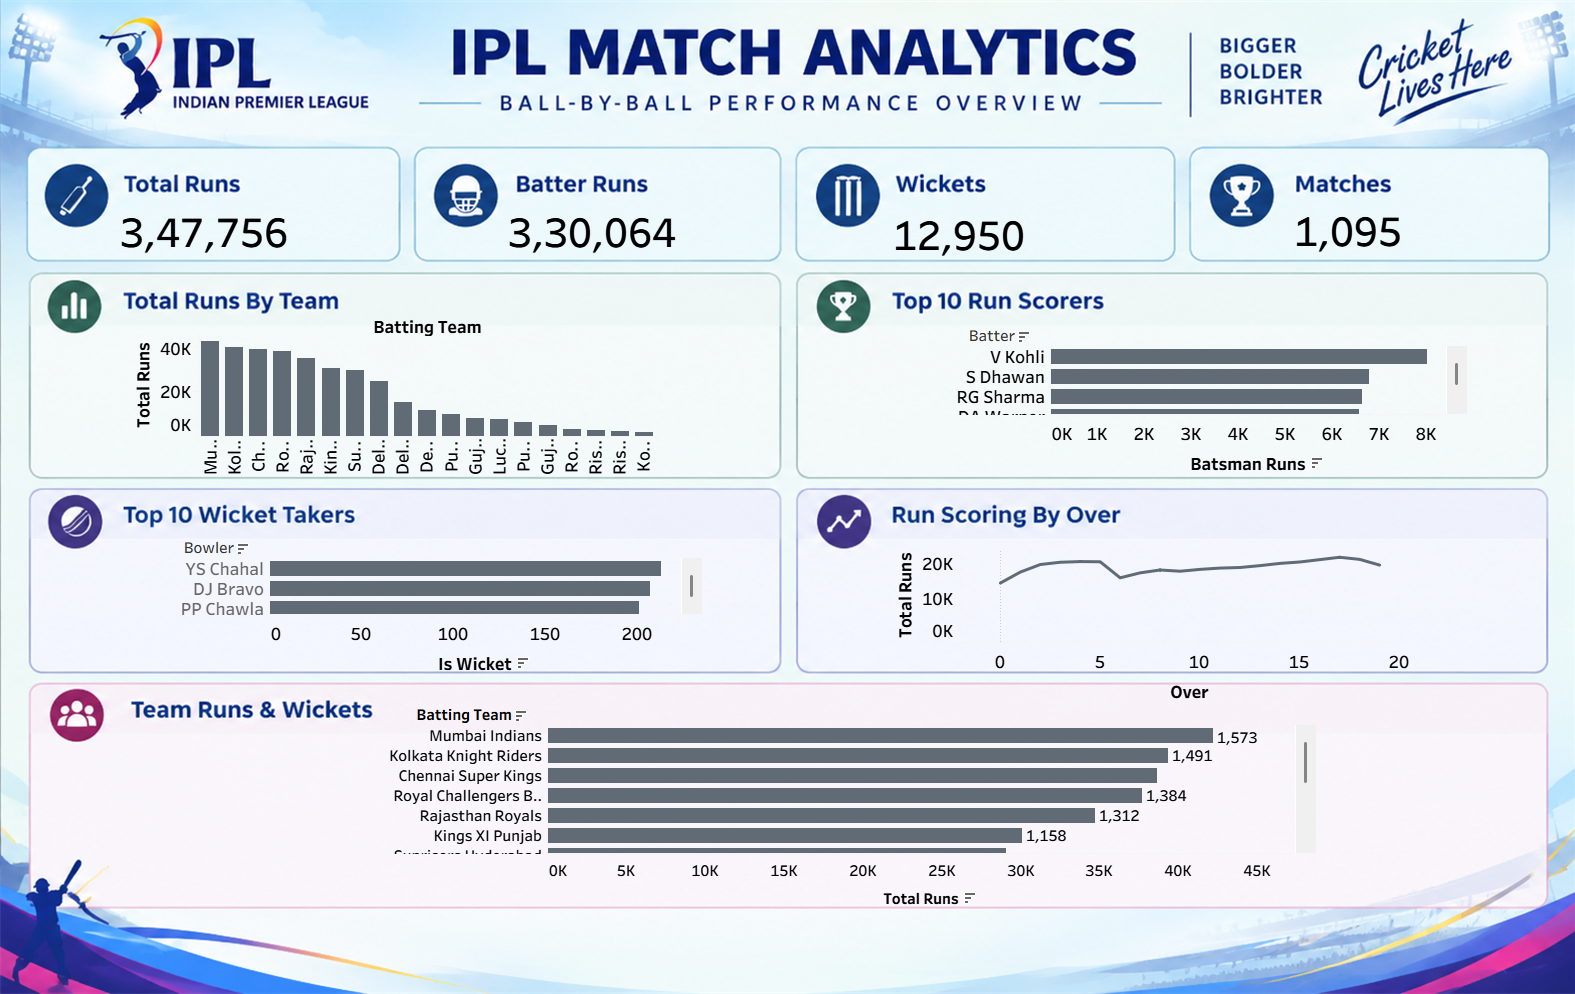

The dashboard page shown, as its layout file describes it:
{"tool":"tableau","page":{"name":"Dashboard 2","canvas":[1600,1200],"ordinal":0},"visuals":[{"type":"image","param":"Image/ChatGPT Image Sep 22, 2026, 08_06_36 PM.png","box":[8,8,1584,1184]},{"type":"worksheet","title":"matches cntd","mark":"Automatic","box":[1298,200,164,80]},{"type":"worksheet","title":"total runs","mark":"Automatic","box":[124,201,260,77]},{"type":"worksheet","title":"bat runs","mark":"Automatic","box":[512,201,229,78]},{"type":"worksheet","title":"wicks","mark":"Automatic","box":[901,204,202,70]},{"type":"worksheet","title":"runs by team","mark":"Automatic","rows":["total_runs"],"cols":["batting_team"],"box":[136,313,533,176]},{"type":"worksheet","title":"top10 run scorer","mark":"Bar","rows":["batter"],"cols":["batsman_runs"],"box":[942,323,537,171]},{"type":"worksheet","title":"top 10 wicket taker","mark":"Bar","rows":["bowler"],"cols":["is_wicket"],"box":[181,535,533,159]},{"type":"worksheet","title":"runs by over","mark":"Automatic","rows":["total_runs"],"cols":["over"],"box":[898,548,533,174]},{"type":"worksheet","title":"runs vs wicket by team ","mark":"Automatic","rows":["batting_team"],"cols":["total_runs"],"box":[399,702,929,226]}]}

Visuals, with their boxes on the page's 1600x1200 design canvas (x1, y1, x2, y2). These are canvas units, not pixel positions in the 1575x994 screenshot, which may show the page scaled, cropped or inside an application window:
image: box=[8, 8, 1592, 1192]
"matches cntd" worksheet: box=[1298, 200, 1462, 280]
"total runs" worksheet: box=[124, 201, 384, 278]
"bat runs" worksheet: box=[512, 201, 741, 279]
"wicks" worksheet: box=[901, 204, 1103, 274]
"runs by team" worksheet: box=[136, 313, 669, 489]
"top10 run scorer" worksheet (Bar marks): box=[942, 323, 1479, 494]
"top 10 wicket taker" worksheet (Bar marks): box=[181, 535, 714, 694]
"runs by over" worksheet: box=[898, 548, 1431, 722]
"runs vs wicket by team " worksheet: box=[399, 702, 1328, 928]
